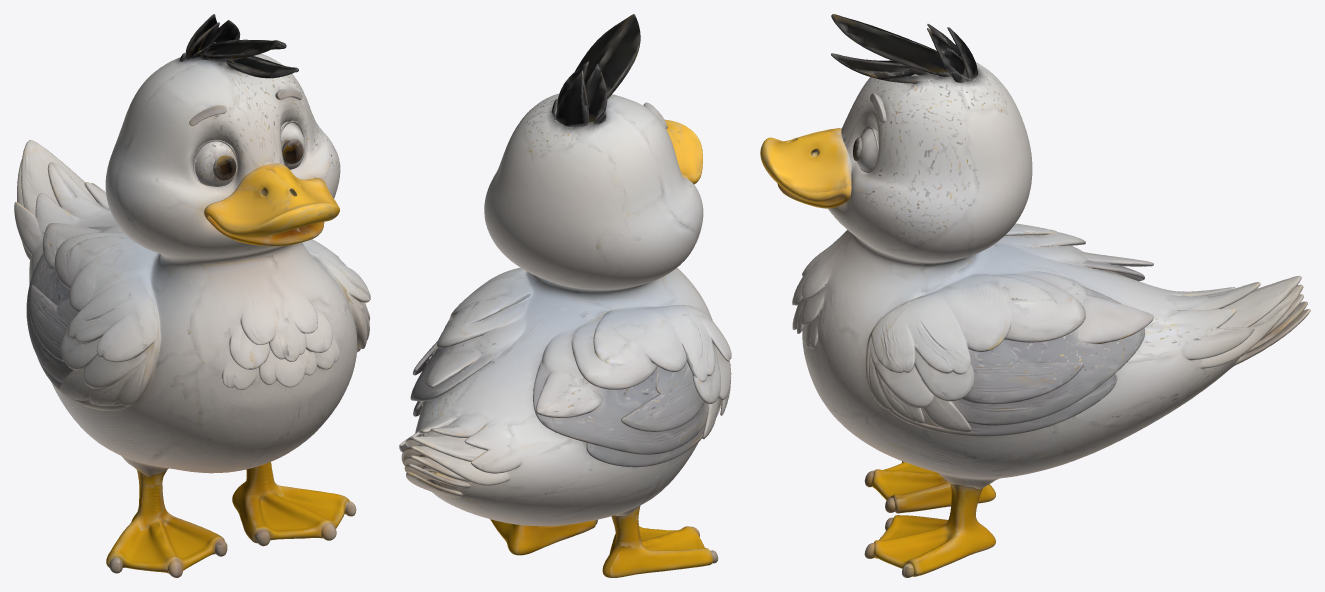
The model's file is hy3_duck_draco.glb.
3 views of the same model, side by side, from view 1: azimuth 30°, elevation 25°; view 2: azimuth 150°, elevation 25°; view 3: azimuth 270°, elevation 25° (orthographic). The views are drawn at different scales.
Visible parts, largest first — view 1: node_0; view 2: node_0; view 3: node_0.
Boxes of the visible parts, left/top/right/bottom form: node_0: left=14, top=14, right=370, bottom=577; node_0: left=399, top=14, right=731, bottom=577; node_0: left=760, top=14, right=1310, bottom=577.
Bounding box in the file's own units: 0.547 × 0.9746 × 0.9508.
Materials: 1 (1 with a texture image).
